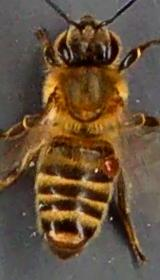varroa_mite: (92, 134, 126, 182)
